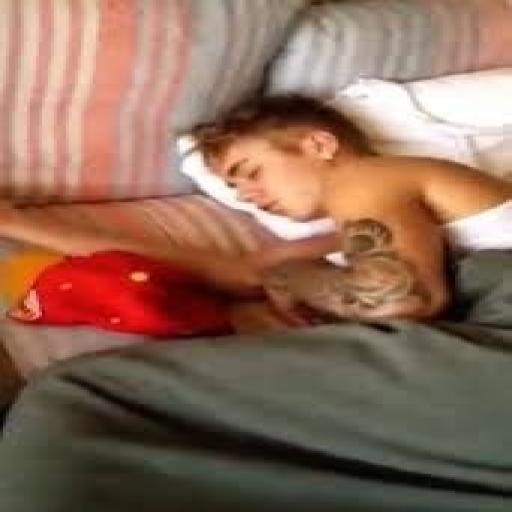sleeping: (183, 92, 509, 333)
